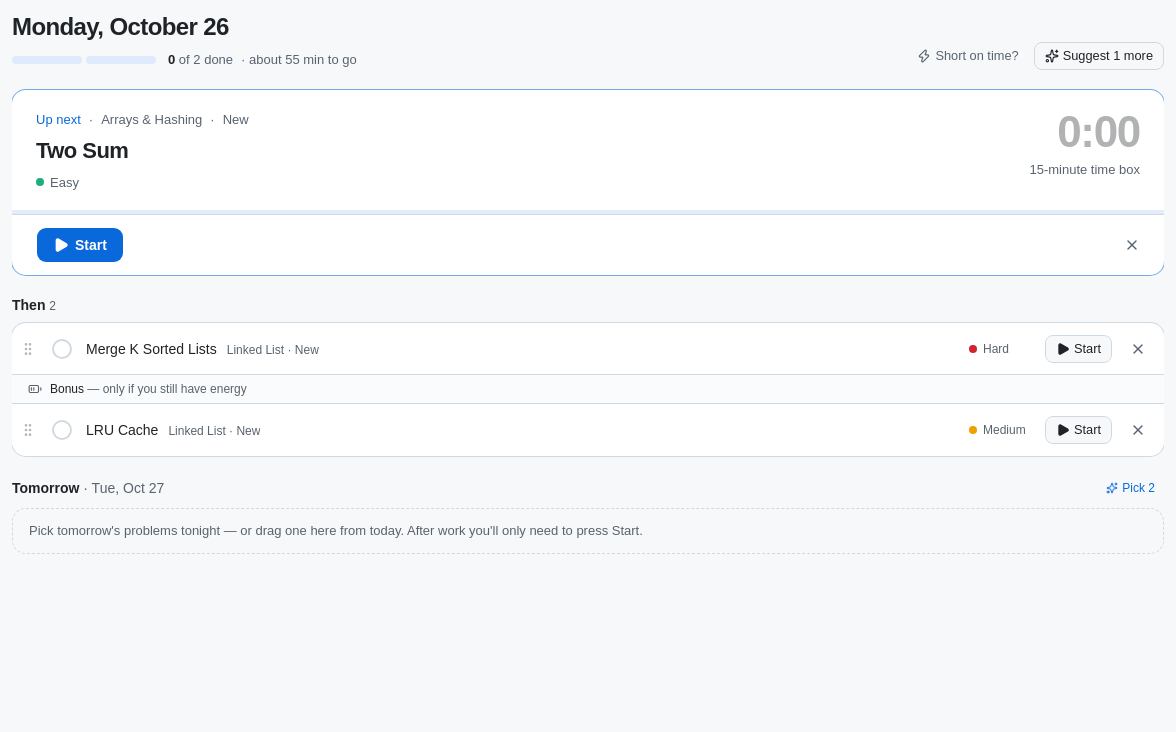
Test: TodayView › moves a problem started from the queue into the spotlight
Click the button with aria-label "Start LRU Cache" at [1078, 430], box [1045,416,1112,444]
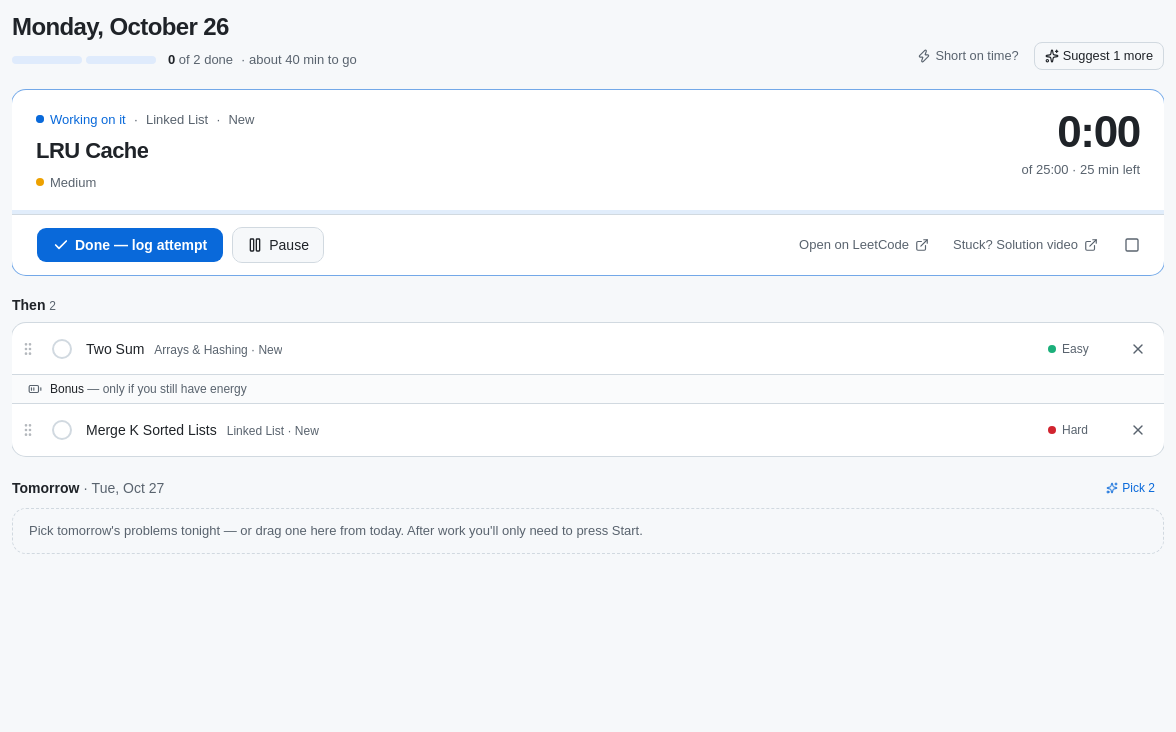
Result: the element that starts with "Working on it" is shown at [50,112,126,126]
Result: the button "Two Sum" is shown at [86,338,144,358]
